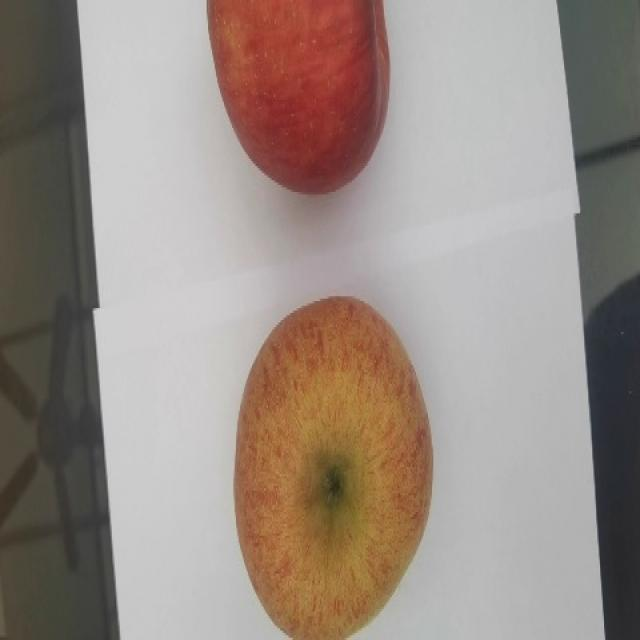Apple: (233, 294, 433, 639), (205, 0, 390, 195)
